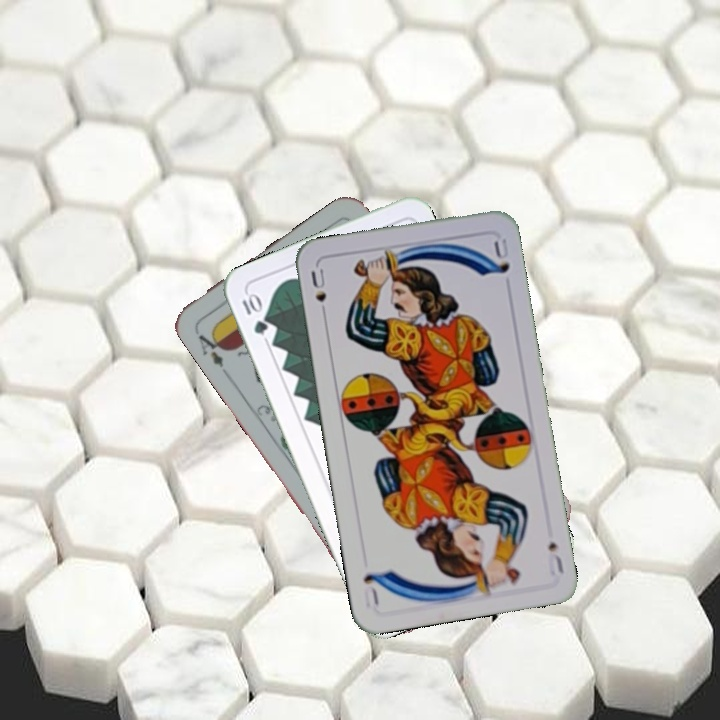EA: (194, 325, 230, 370)
G10: (238, 289, 271, 338)
SU: (307, 264, 330, 322), (543, 537, 567, 578)
